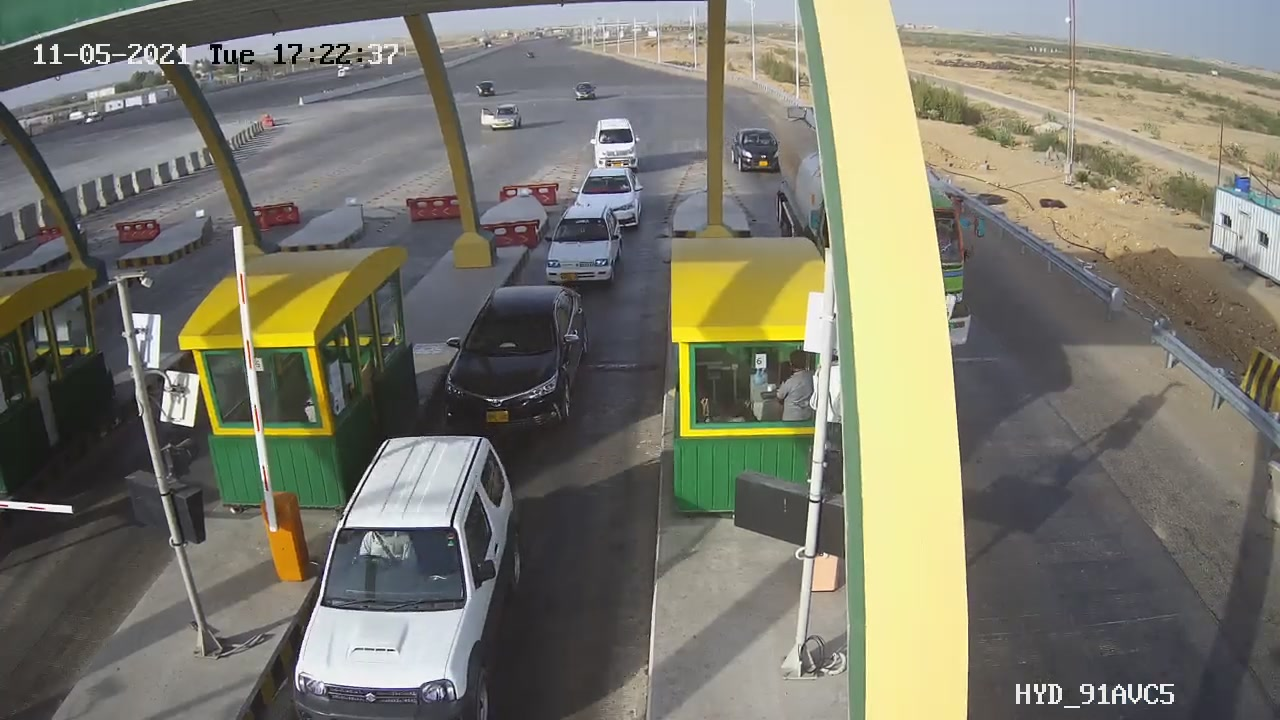F1: (422, 272, 612, 453), (530, 194, 642, 296)
